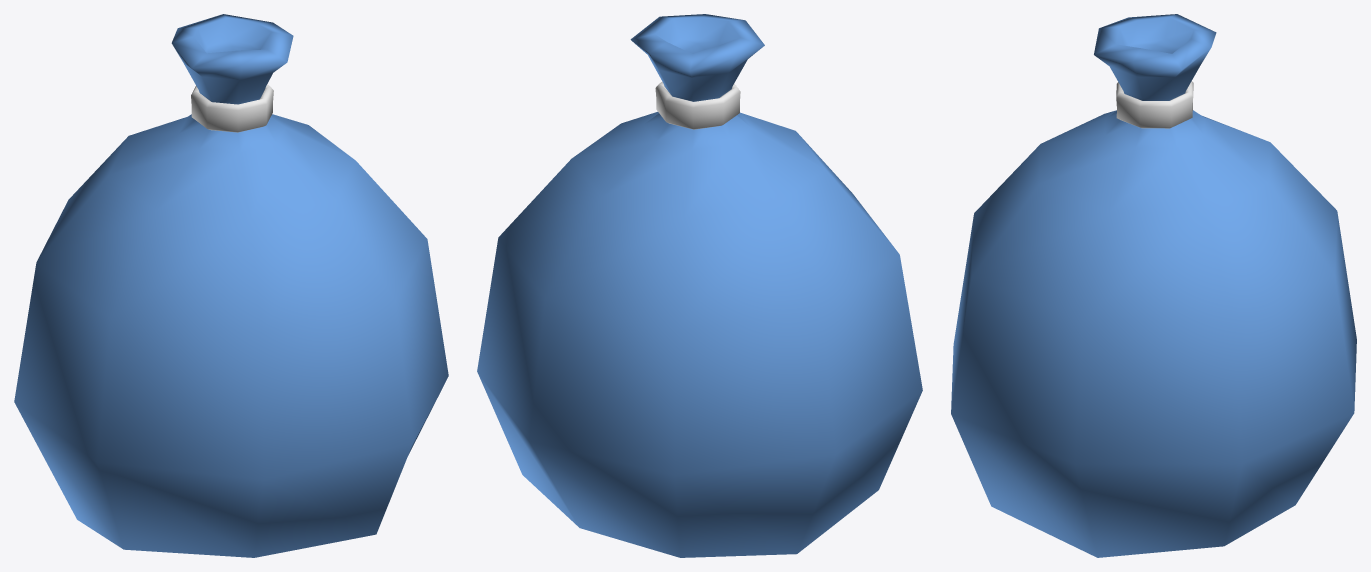
File: Bag_Trash_1.fbx
3 renders of one model, left to right at view 1: azimuth 30°, elevation 25°; view 2: azimuth 150°, elevation 25°; view 3: azimuth 270°, elevation 25°, orthographic. The views are drawn at different scales.
Parts seen in each view (by area): view 1: Cube.459; view 2: Cube.459; view 3: Cube.459.
Part boxes in pixels (x1,y1,x2,y2): Cube.459: [14, 14, 448, 557]; Cube.459: [477, 14, 922, 557]; Cube.459: [951, 14, 1356, 557].
Size of the model in its own units: 0.9734 by 1.27 by 0.9734.
